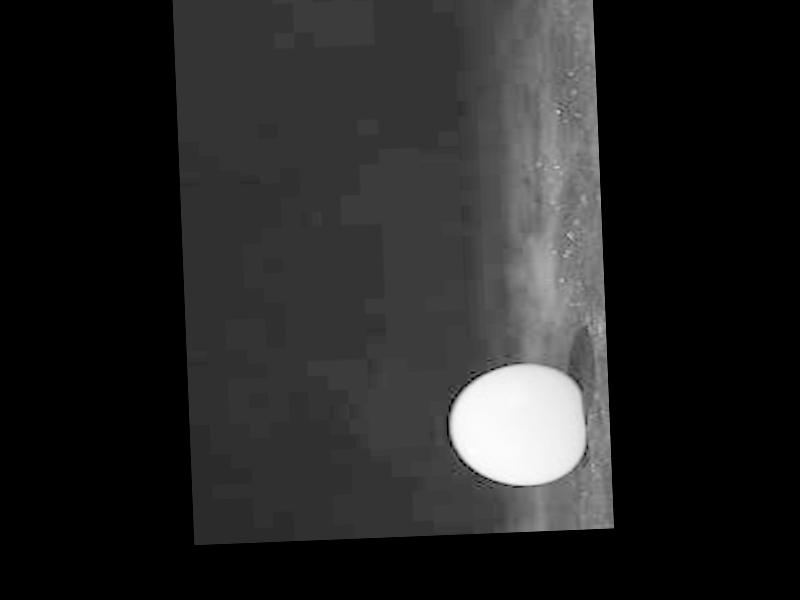Eggs: (447, 361, 585, 487)
